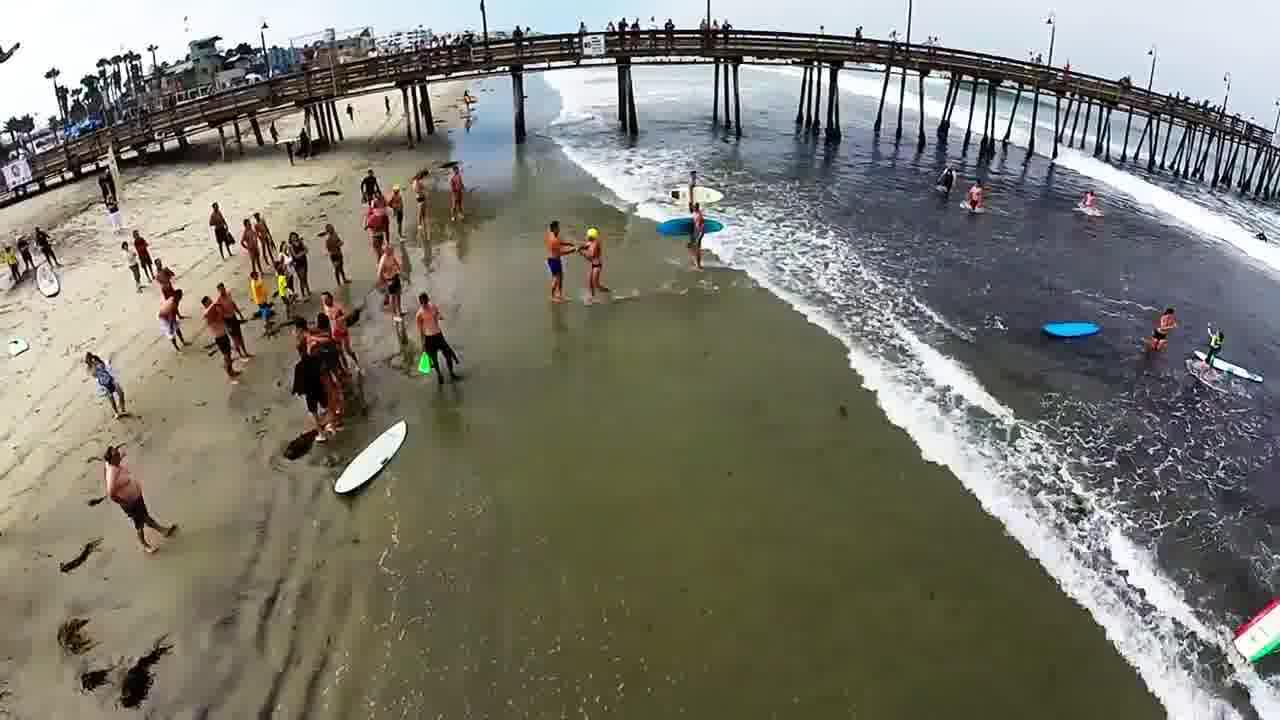swimmer: (1148, 301, 1179, 346), (1075, 176, 1102, 219), (965, 173, 989, 218), (933, 155, 954, 199)
